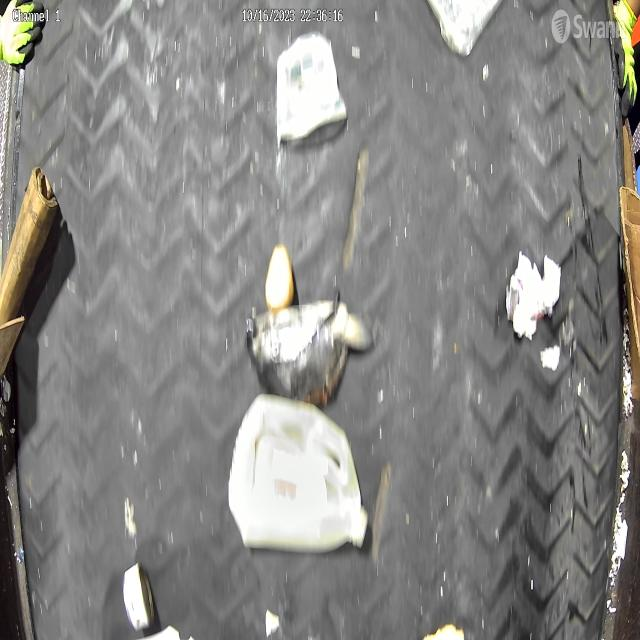can: (122, 558, 156, 630)
milk_jug: (228, 396, 369, 556)
